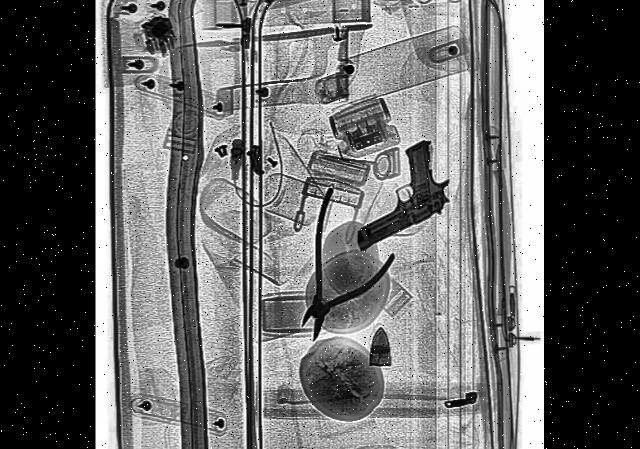Gun: (342, 132, 454, 257)
Pliers: (274, 180, 395, 374)
